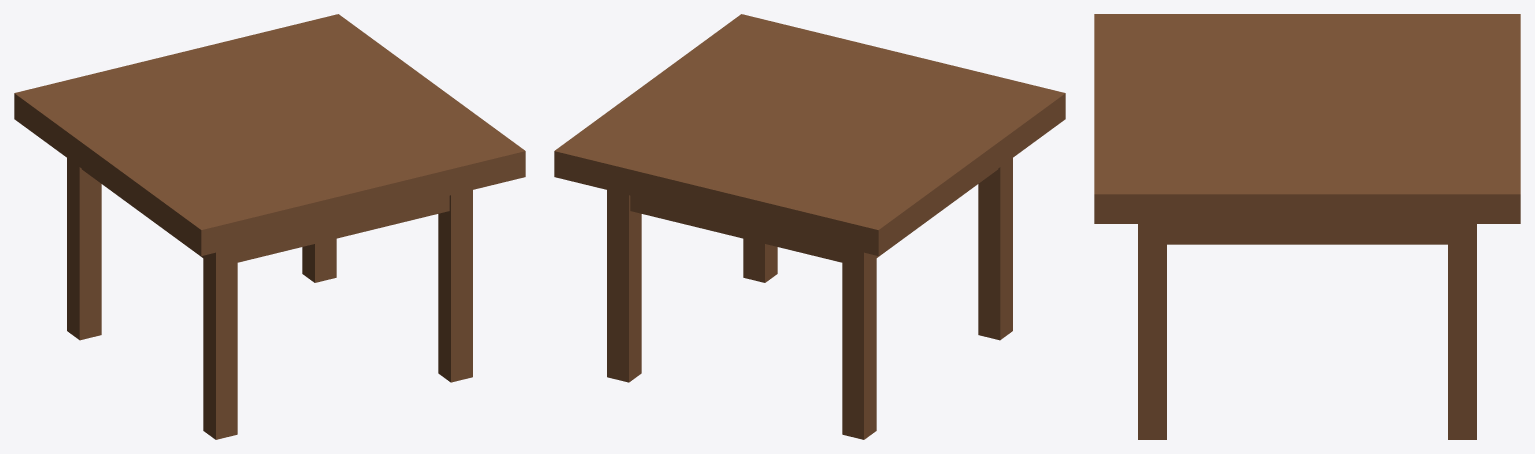
File: Table2.fbx
3 views of the same model, side by side, from view 1: azimuth 30°, elevation 25°; view 2: azimuth 150°, elevation 25°; view 3: azimuth 270°, elevation 25° (orthographic). The views are drawn at different scales.
Visible parts, largest first — view 1: Table2; view 2: Table2; view 3: Table2.
Boxes of the visible parts, <box> form: Table2: <box>14,14,525,439</box>; Table2: <box>554,14,1065,439</box>; Table2: <box>1094,14,1520,439</box>.
Bounding box in the file's own units: 200 × 200 × 137.
